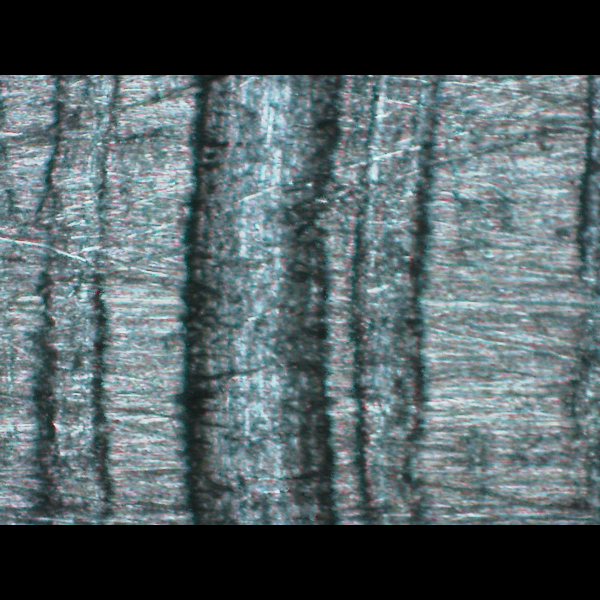d: (175, 75, 439, 523), (10, 75, 126, 522)
